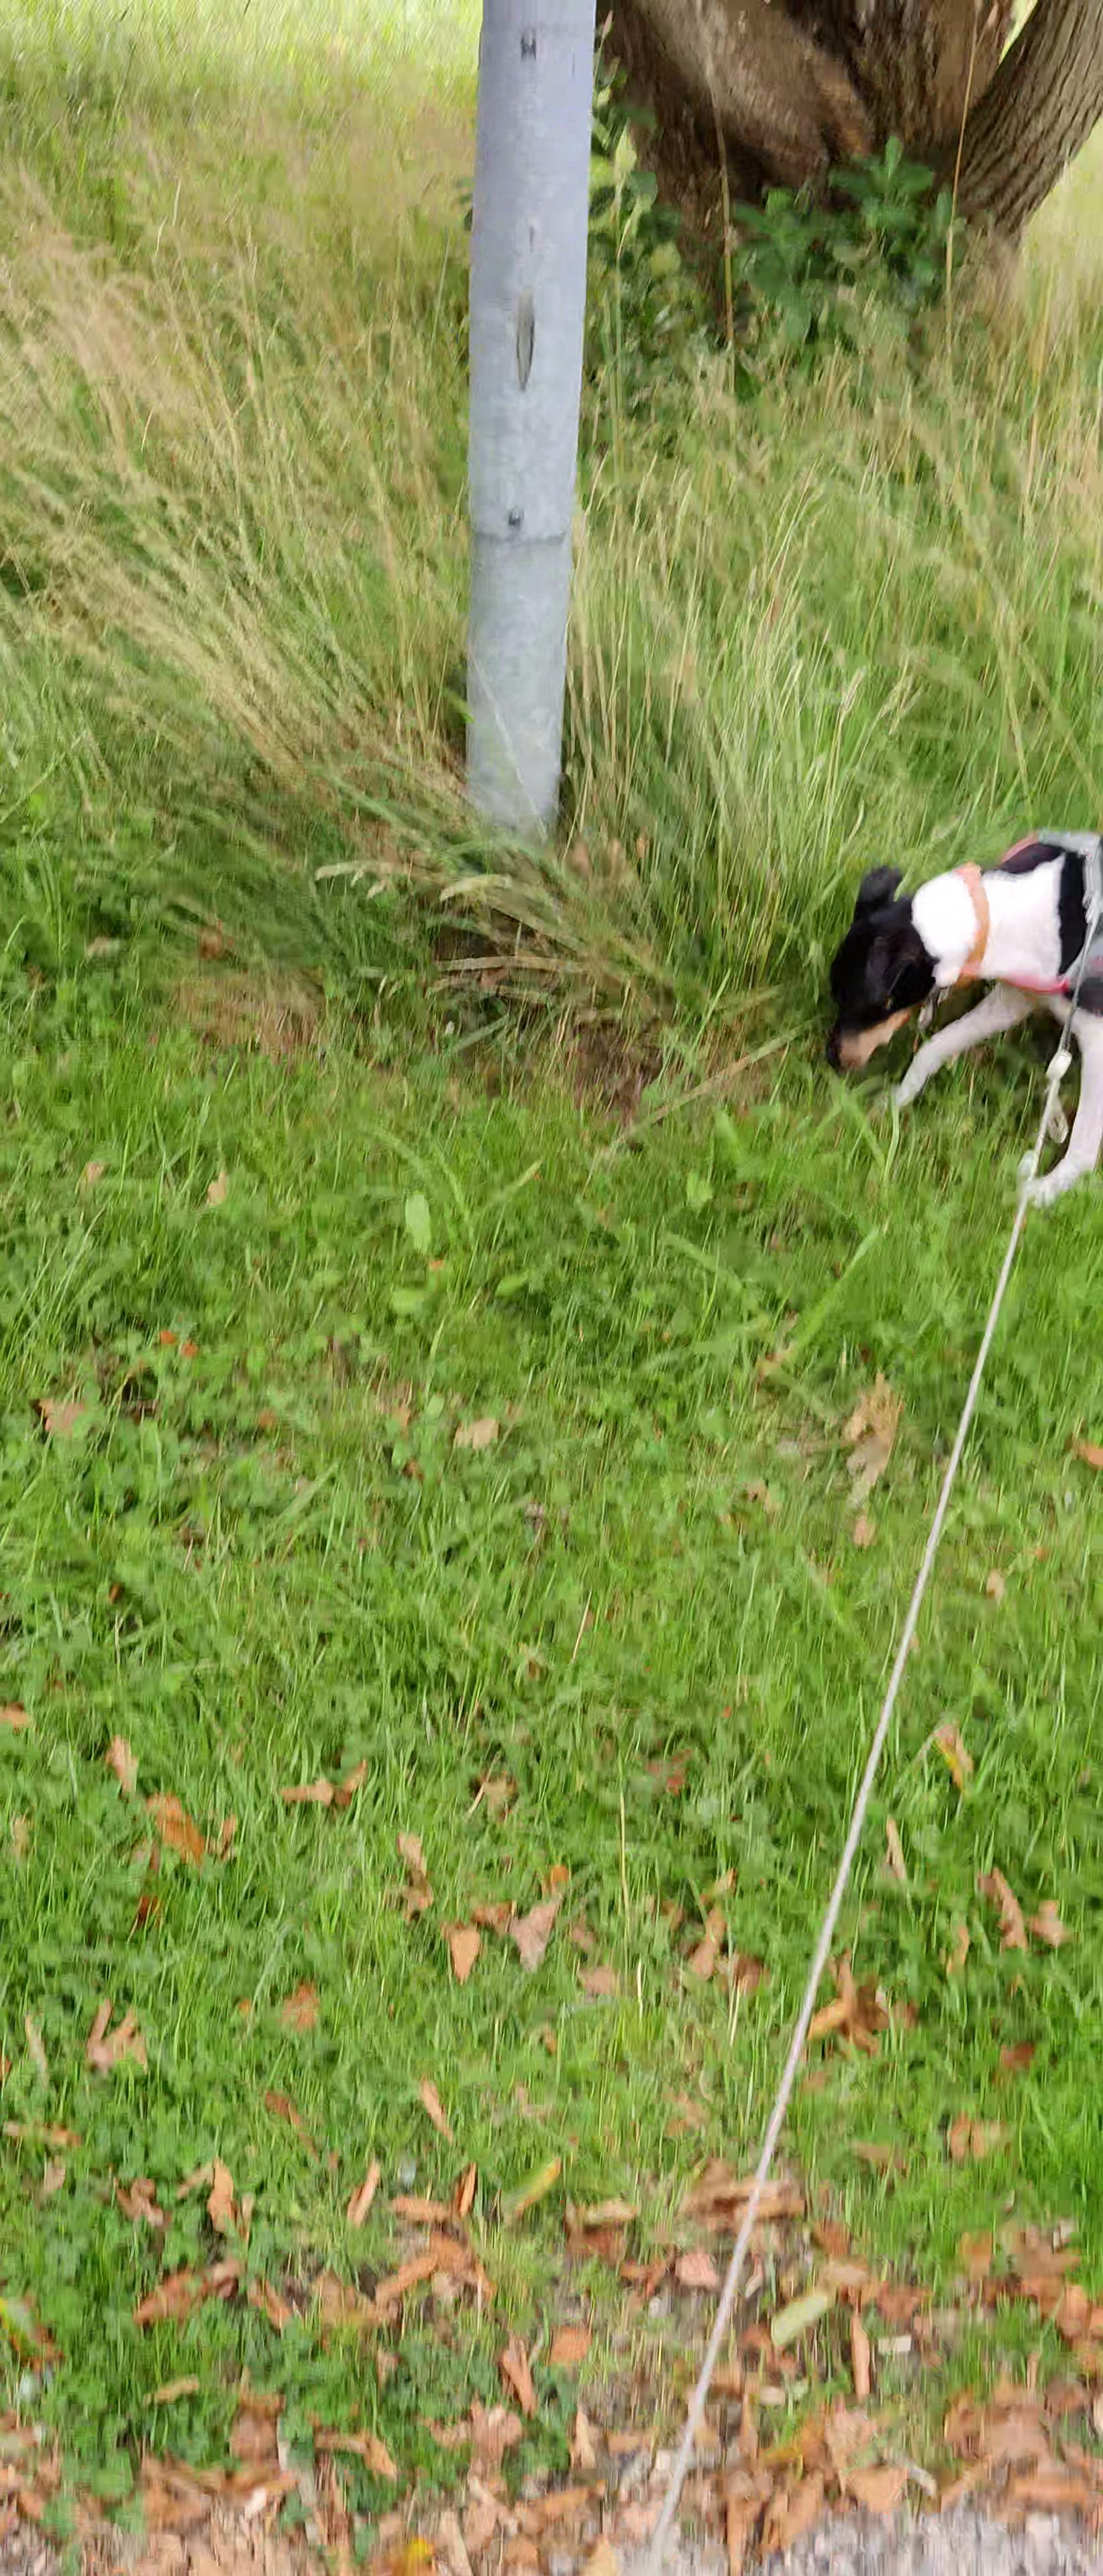Dog: (801, 798, 1103, 1227)
